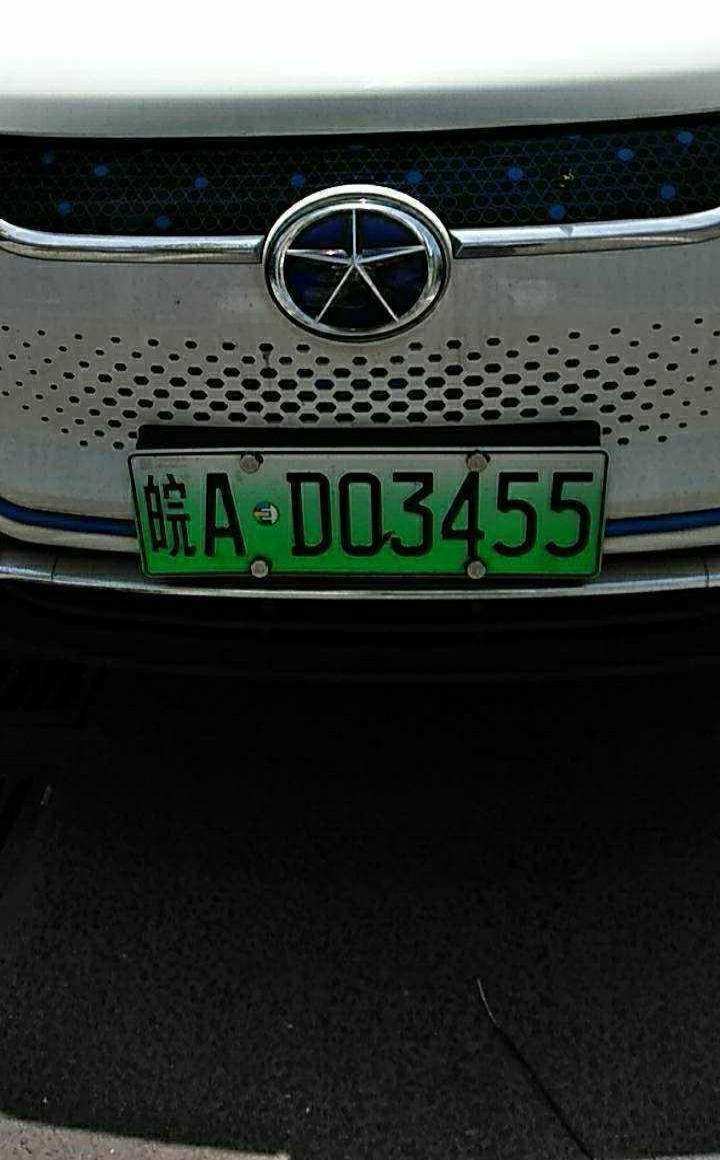car: (120, 442, 601, 591)
